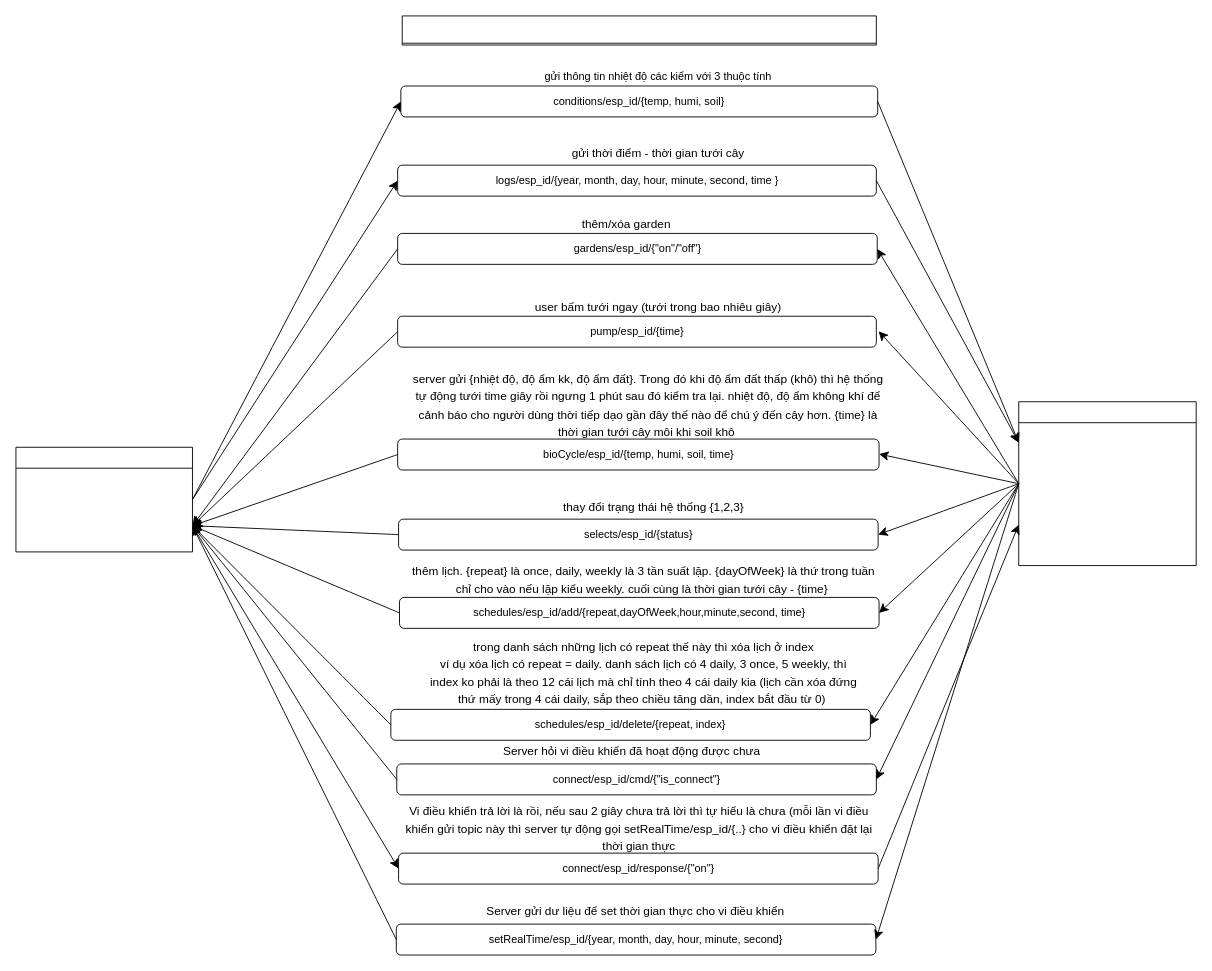
Some shapes in this 1212 by 971 pixel diagram are drawn without their labels. The shapes that lost their labels are listed below. From the top down, each one's centre as x and y in pixels, then its label:
At (x=638, y=30): "các topic và định dạng dữ liệu".
At (x=103, y=499): "Embedded".
At (x=1107, y=483): "HiveMQ broker".
